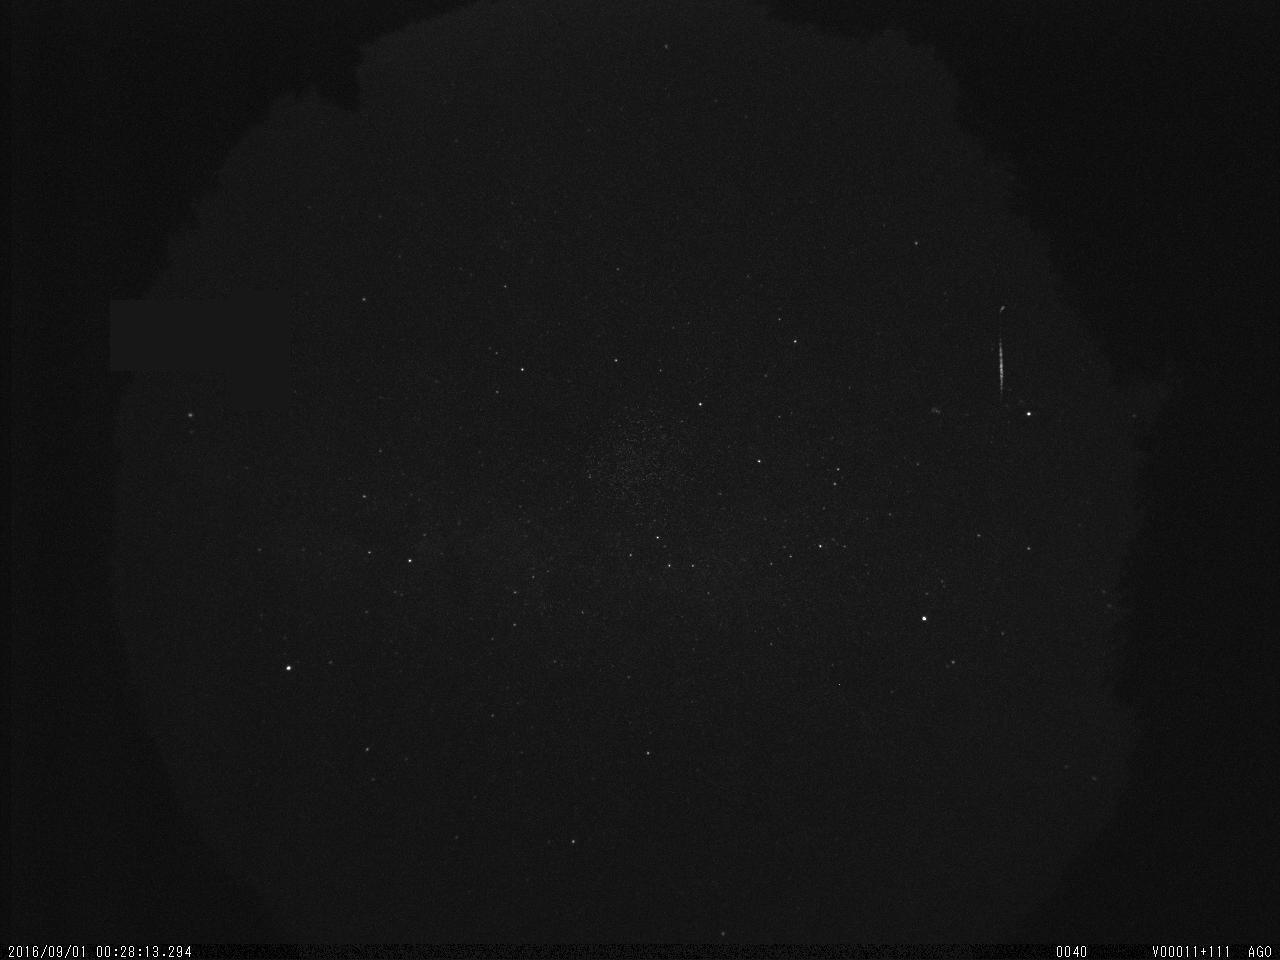Meteor: (994, 335, 1005, 395)
